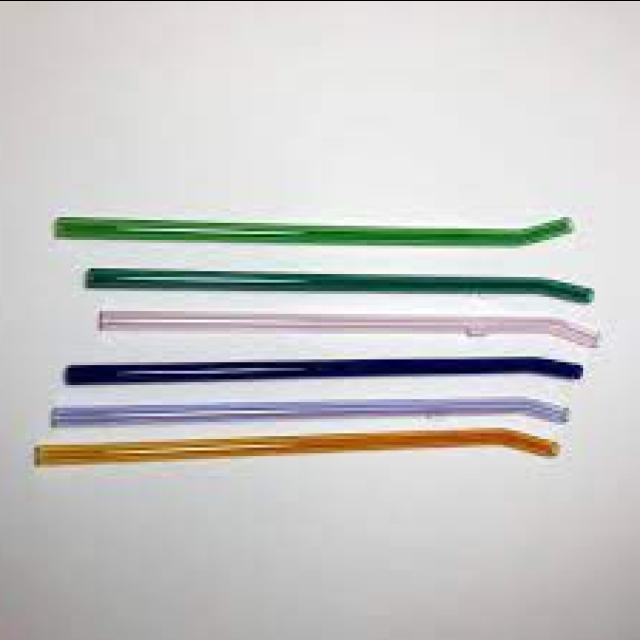straw: (36, 428, 560, 464), (101, 310, 599, 342), (87, 268, 594, 299), (54, 216, 574, 246), (52, 396, 569, 424), (66, 356, 584, 381)
